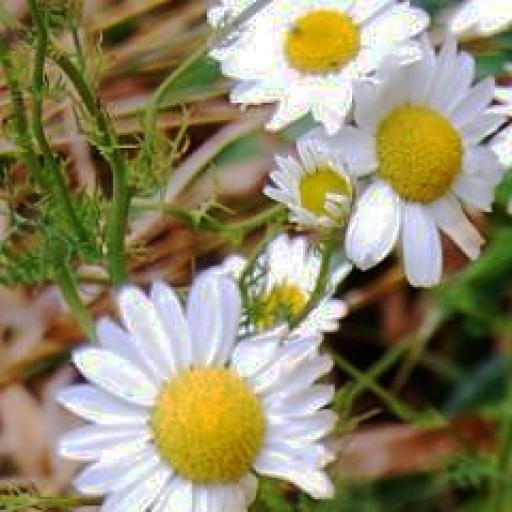daisy: (62, 276, 339, 512), (335, 43, 503, 285), (262, 150, 358, 227), (250, 246, 326, 334)
